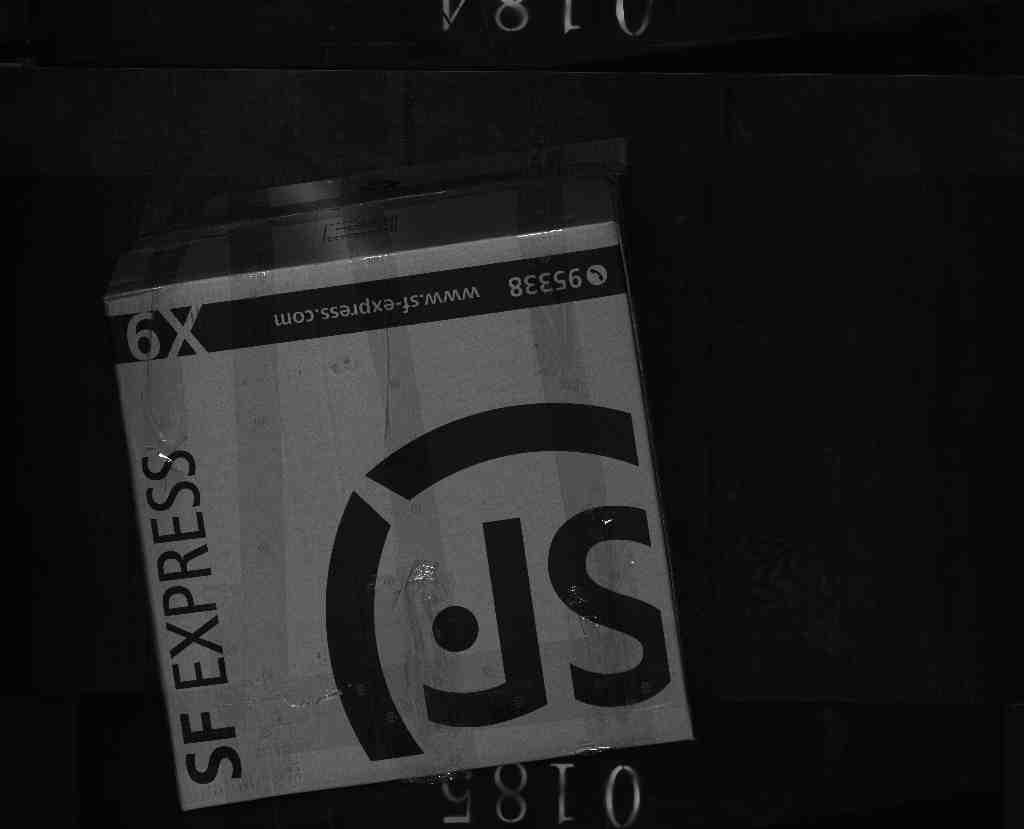box: (93, 171, 698, 805)
